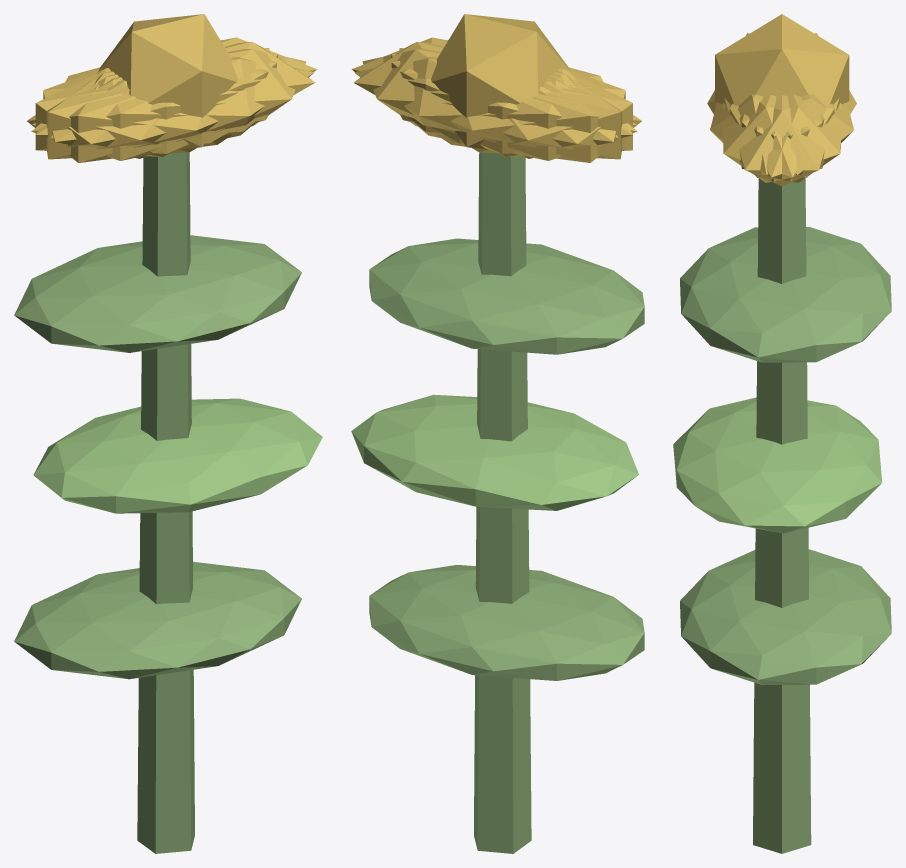
Rendered from khaya-senegalensis.glb.
3 renders of one model, left to right at view 1: azimuth 30°, elevation 25°; view 2: azimuth 150°, elevation 25°; view 3: azimuth 270°, elevation 25°, orthographic.
Parts seen in each view (by area): view 1: stem, leaf2, leaf1, leaf0, center, petal1, petal6, petal2, petal5, petal7, petal0, petal4 (+2 smaller); view 2: stem, leaf2, leaf0, leaf1, center, petal8, petal3, petal7, petal4, petal2, petal0, petal5 (+2 smaller); view 3: stem, leaf1, leaf2, leaf0, center, petal0, petal5, petal4, petal1, petal8.
Part boxes in pixels (left/top/right/bottom): stem: left=137, top=152, right=194, bottom=853; leaf2: left=14, top=235, right=301, bottom=352; leaf1: left=33, top=398, right=322, bottom=513; leaf0: left=14, top=561, right=301, bottom=679; center: left=98, top=14, right=237, bottom=149; petal1: left=31, top=57, right=314, bottom=160; petal6: left=27, top=69, right=231, bottom=162; petal2: left=46, top=48, right=269, bottom=159; petal5: left=50, top=49, right=306, bottom=153; petal7: left=35, top=54, right=277, bottom=156; petal0: left=98, top=41, right=315, bottom=143; petal4: left=32, top=37, right=316, bottom=135; stem: left=474, top=152, right=531, bottom=853; leaf2: left=369, top=238, right=644, bottom=354; leaf0: left=369, top=565, right=644, bottom=680; leaf1: left=351, top=394, right=638, bottom=510; center: left=431, top=14, right=570, bottom=149; petal8: left=354, top=57, right=637, bottom=160; petal3: left=437, top=69, right=641, bottom=162; petal7: left=399, top=48, right=622, bottom=159; petal4: left=362, top=49, right=618, bottom=153; petal2: left=391, top=54, right=632, bottom=156; petal0: left=353, top=41, right=570, bottom=143; petal5: left=352, top=37, right=636, bottom=135; stem: left=753, top=178, right=811, bottom=853; leaf1: left=673, top=397, right=882, bottom=533; leaf2: left=680, top=227, right=891, bottom=362; leaf0: left=680, top=549, right=891, bottom=685; center: left=715, top=14, right=849, bottom=105; petal0: left=724, top=95, right=839, bottom=186; petal5: left=723, top=95, right=834, bottom=182; petal4: left=729, top=95, right=841, bottom=182; petal1: left=710, top=94, right=824, bottom=174; petal8: left=739, top=94, right=853, bottom=174.
Bounding box in the file's own units: 0.1469 × 0.4077 × 0.0998.
